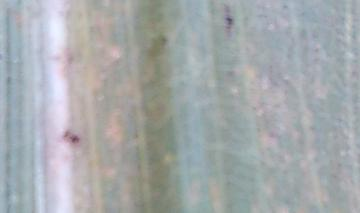tarspot: (221, 2, 235, 40), (61, 127, 82, 147), (281, 3, 288, 10), (314, 46, 320, 53)
